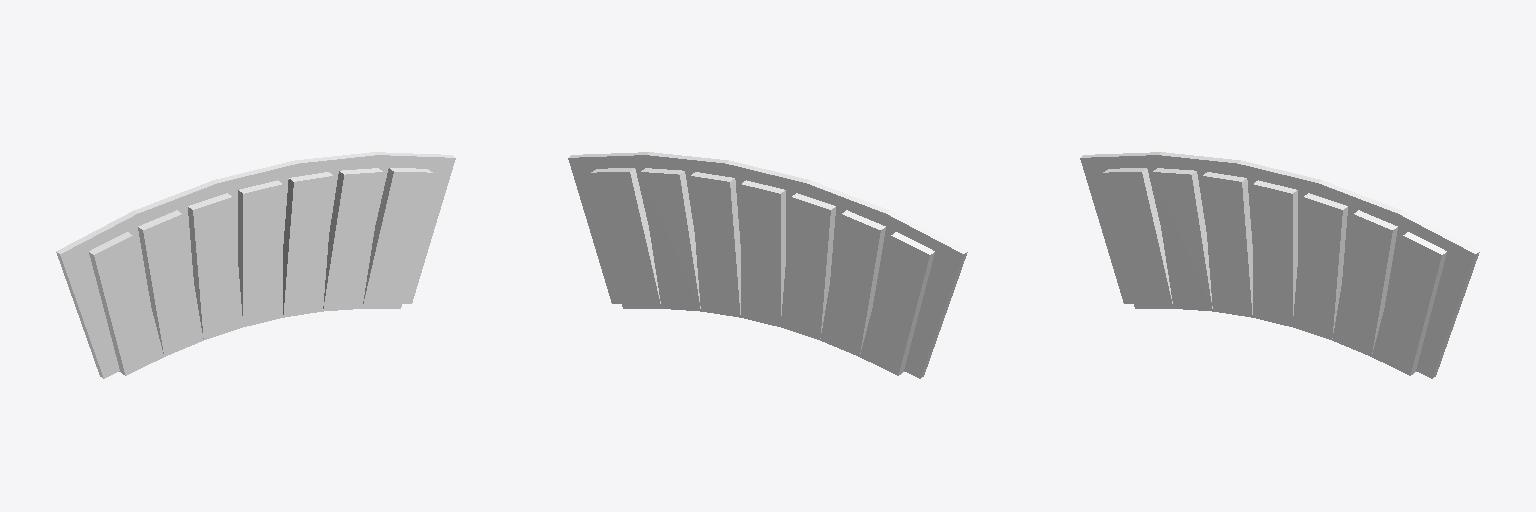
Rendered from lime_mortar_orange_clay_brick_facade_segmental_arch_3_middle_bottom.obj.
3 renders of one model, left to right at view 1: azimuth 30°, elevation 25°; view 2: azimuth 150°, elevation 25°; view 3: azimuth 330°, elevation 25°, orthographic.
Visible parts, largest first — view 1: arch_3_middle, arch_3_middle_inner; view 2: arch_3_middle, arch_3_middle_inner; view 3: arch_3_middle, arch_3_middle_inner.
Part boxes in pixels (x1,y1,x2,y2): arch_3_middle: (89,168,432,375); arch_3_middle_inner: (56,152,455,378); arch_3_middle: (591,168,934,375); arch_3_middle_inner: (568,152,967,378); arch_3_middle: (1103,168,1446,375); arch_3_middle_inner: (1080,152,1479,378).
Size of the model in its own units: 1.55 by 0.6295 by 0.1.